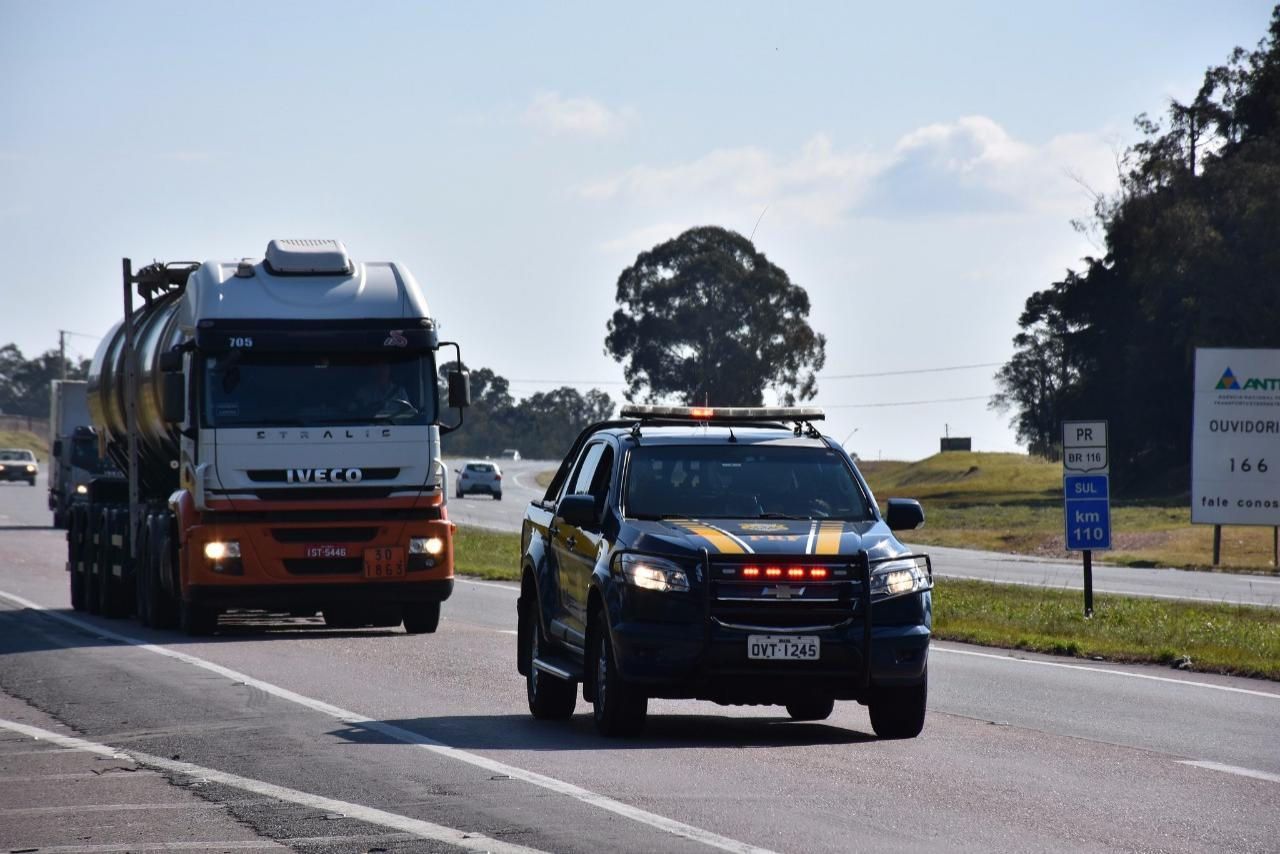car: (509, 394, 935, 742)
car_plate: (746, 632, 823, 662), (304, 543, 351, 562)
truck: (45, 227, 475, 644)
